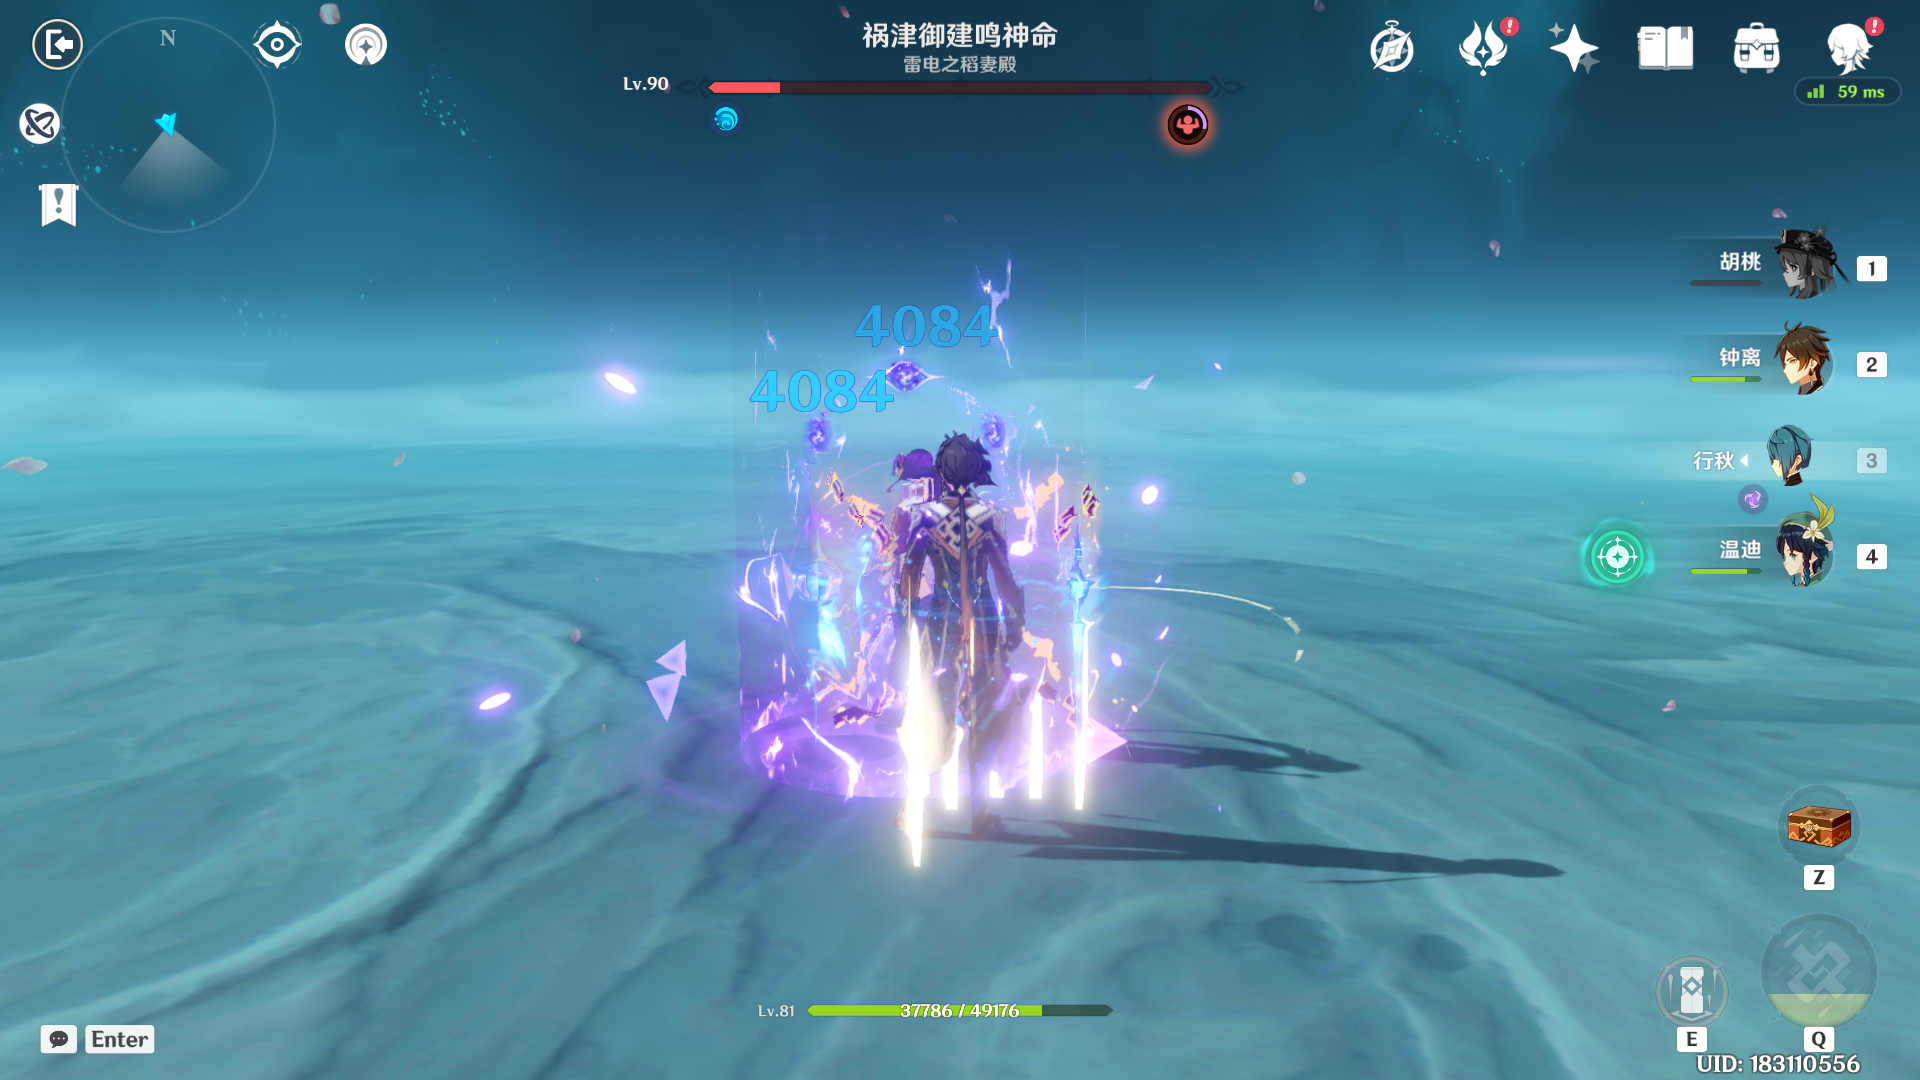character: (851, 400, 1068, 845)
